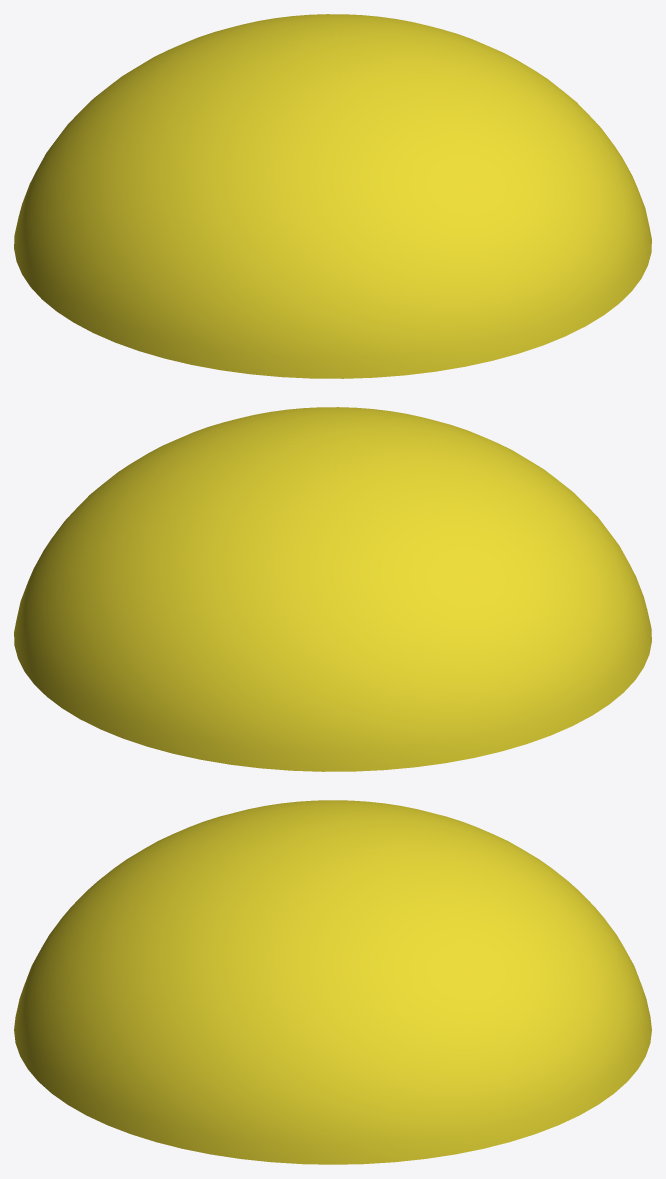
Rendered from eggcooked.fbx.
3 renders of one model, top to bottom at view 1: azimuth 30°, elevation 25°; view 2: azimuth 150°, elevation 25°; view 3: azimuth 270°, elevation 25°, orthographic.
Visible parts, largest first — view 1: Sphere; view 2: Sphere; view 3: Sphere.
Part boxes in pixels (x1,y1,x2,y2): Sphere: (14,14,651,378); Sphere: (14,407,651,771); Sphere: (14,800,651,1164).
Size of what is drawn, in the model's own units: 161 by 53.35 by 161.
